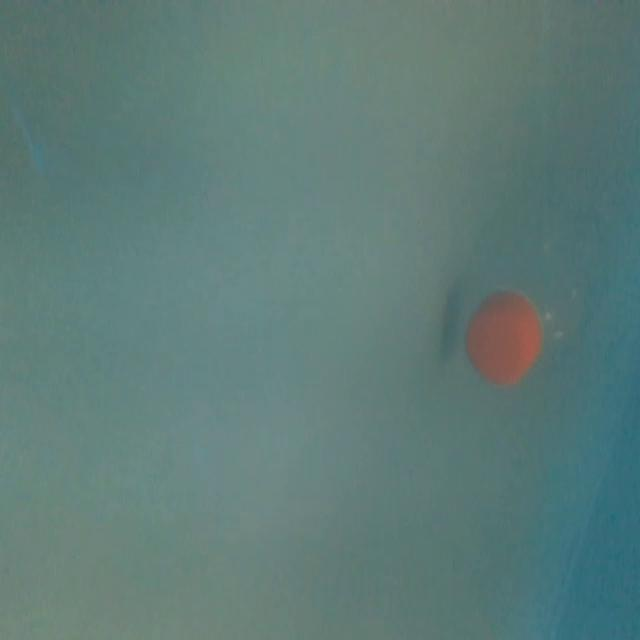plastic bottle: (442, 89, 640, 404)
